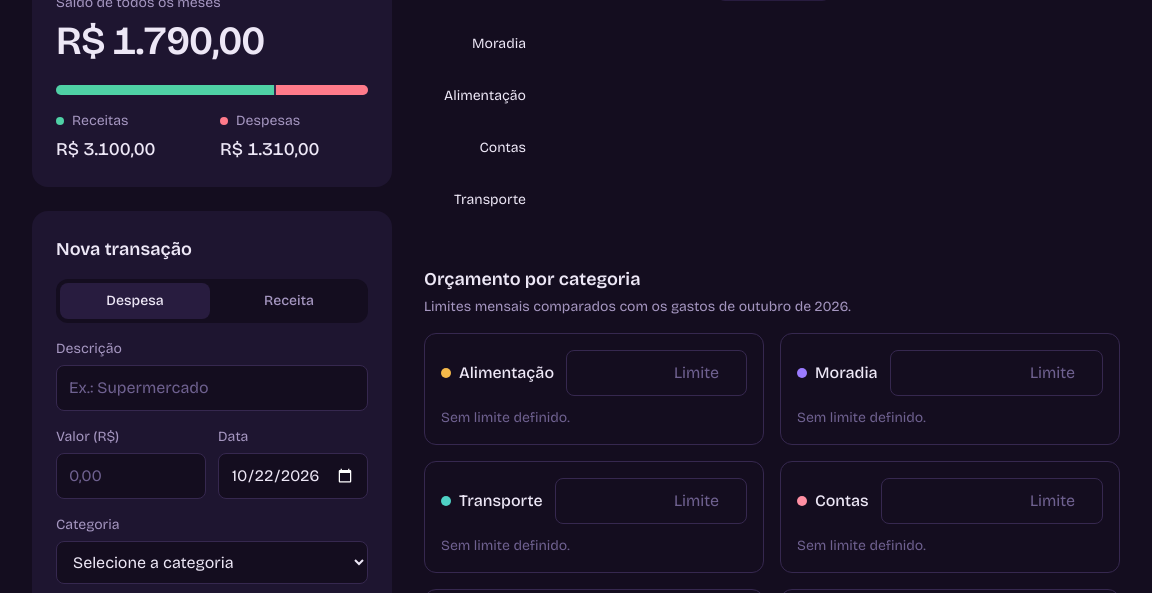
it: Dashboard › cria parcelas em meses seguintes
Type "Celular" into the field labelled "Descrição". click: (212, 388)
box: 56,365 -> 368,411
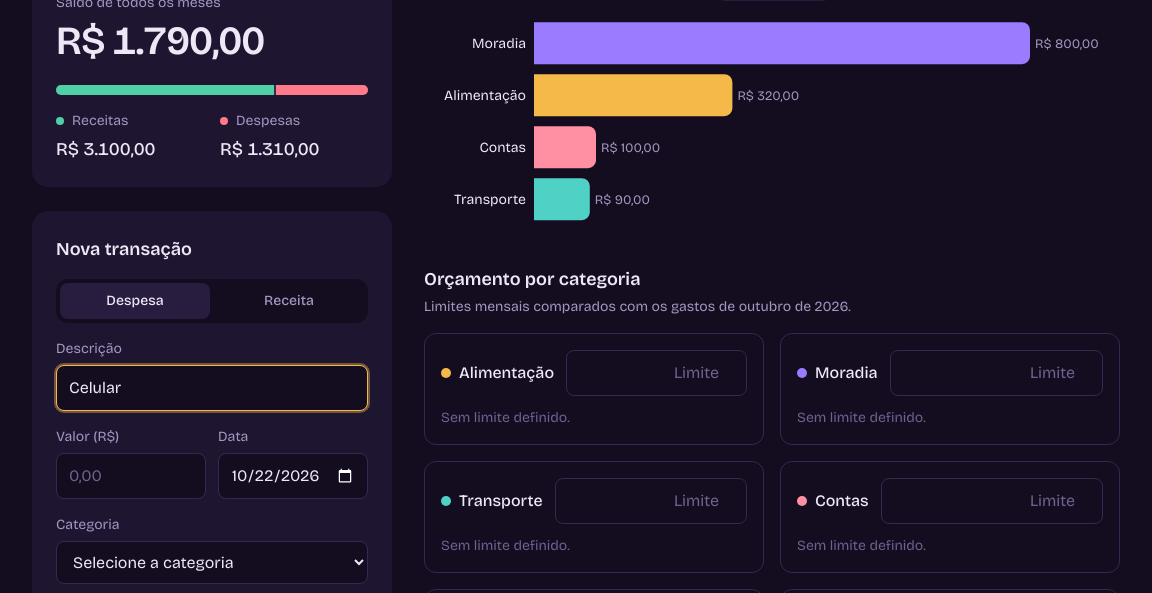
Type "200" into the number field labelled "Valor (R$)". click: (131, 476)
box: 56,453 -> 206,499
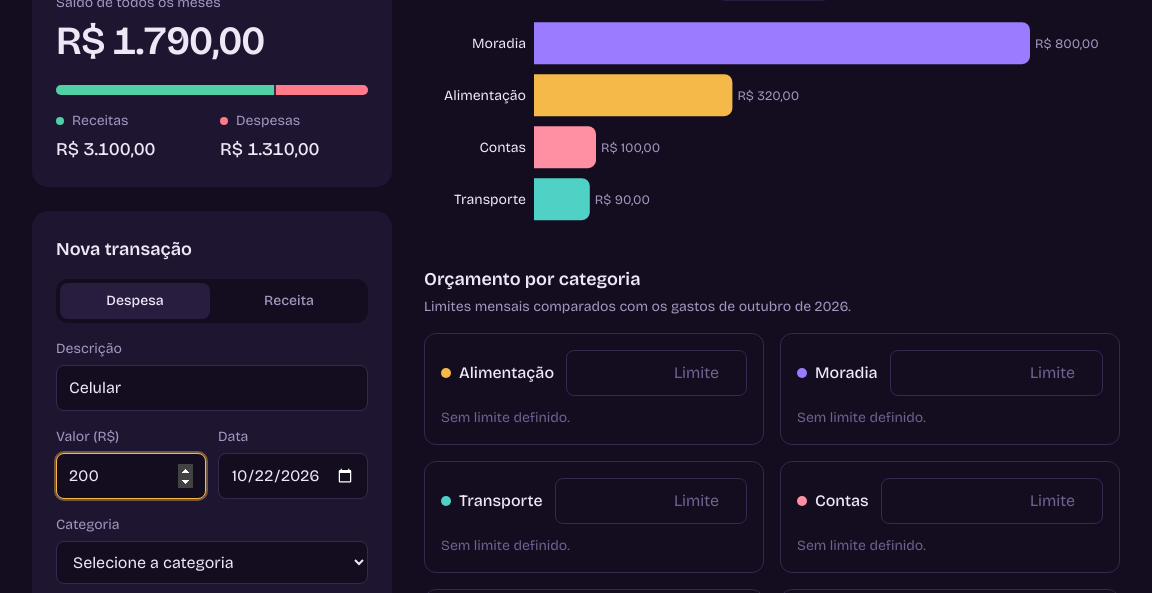
Select "Outros" in the dropdown labelled "Categoria". click: (212, 562)
box: 56,541 -> 368,584
(page scrolled)
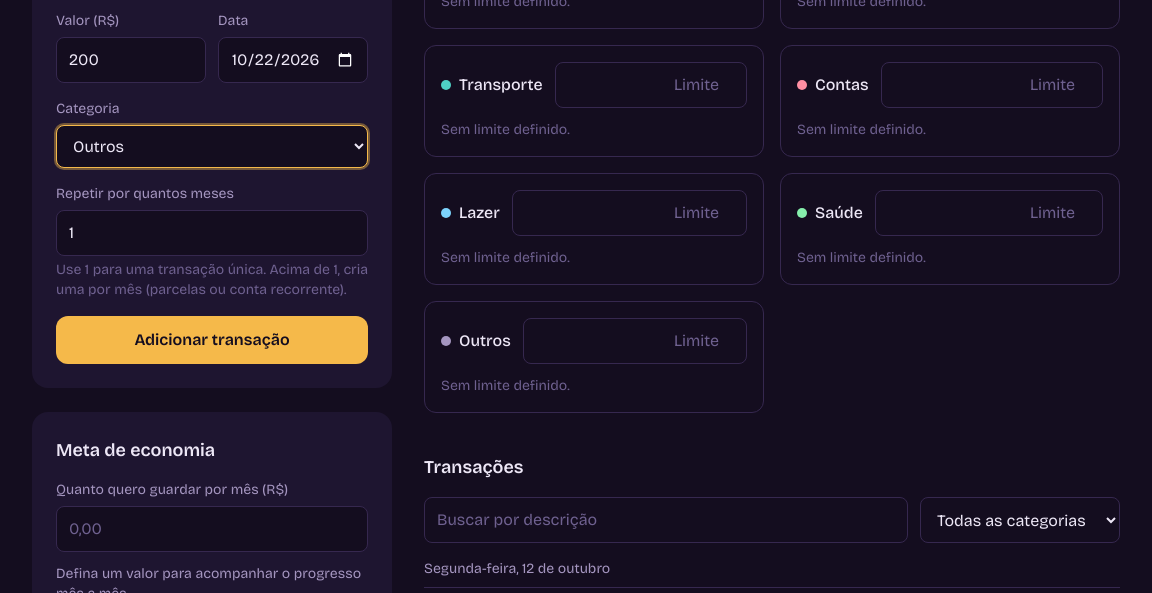
Replace the text in the number field labelled "Repetir por quantos meses" with "3". click: (212, 233)
box: 56,210 -> 368,256
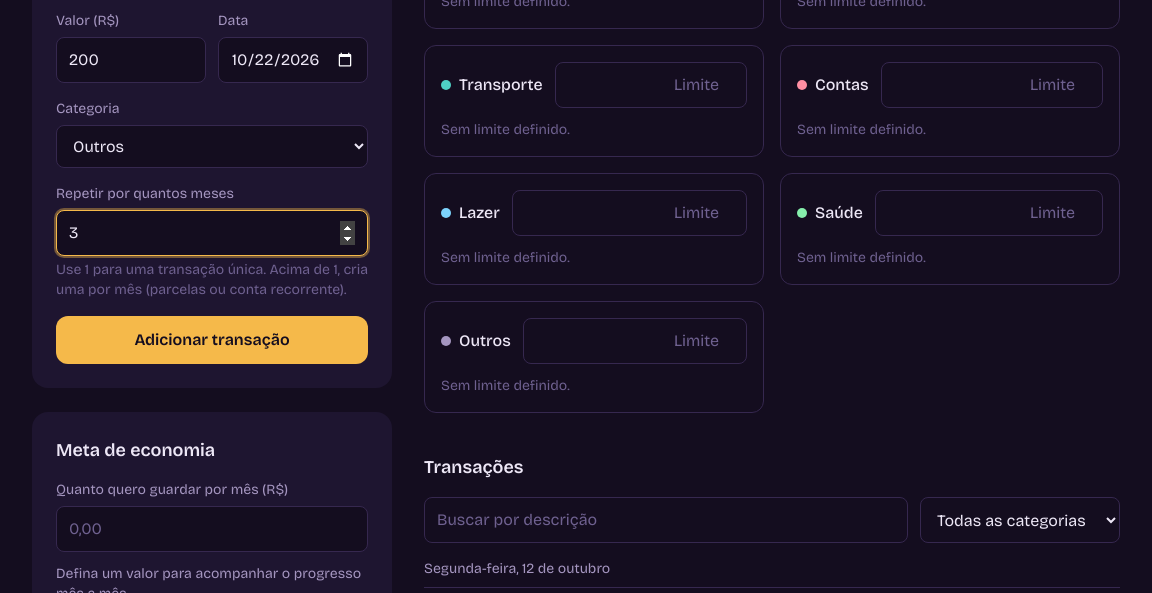
Click the button "Adicionar transação". click: (212, 340)
box: 56,316 -> 368,364
(page scrolled)
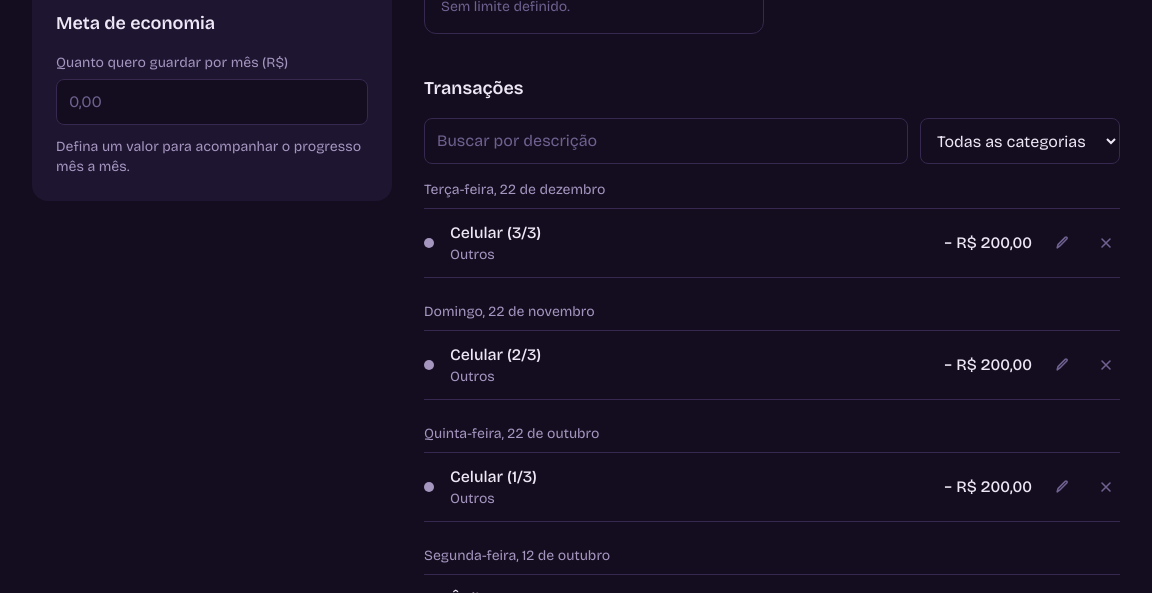
Expected: the text "Celular (1/3)" is shown, 450,467 -> 537,486
Expected: the text "Celular (2/3)" is shown, 450,345 -> 541,364
Expected: the text "Celular (3/3)" is shown, 450,223 -> 541,242
